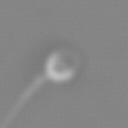normal: (1, 73, 49, 128)
